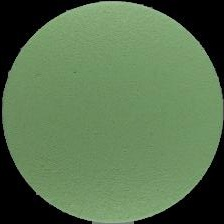68084-277: (0, 0, 224, 224)
